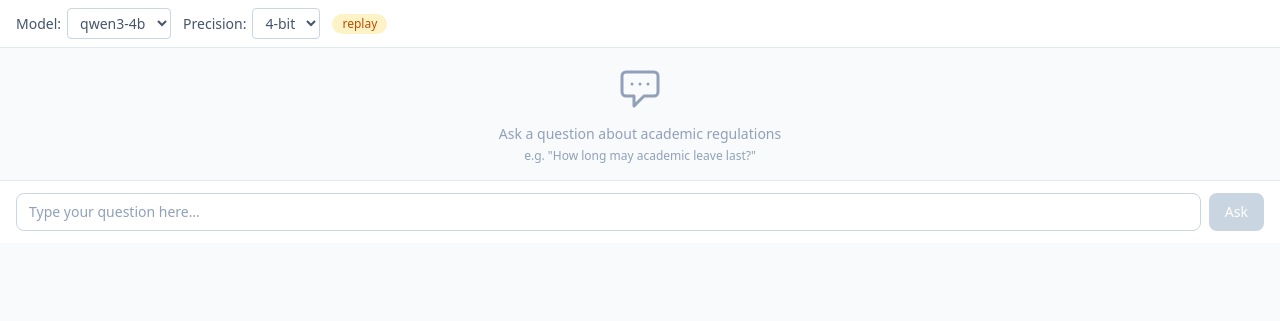
Test case: ChatPage › enables Ask button when text is typed and submits question
Type "How long is academic leave?" into the field with placeholder "Type your question here…".
click(608, 212); type("How long is academic leave?")  # box [16,193,1201,231]
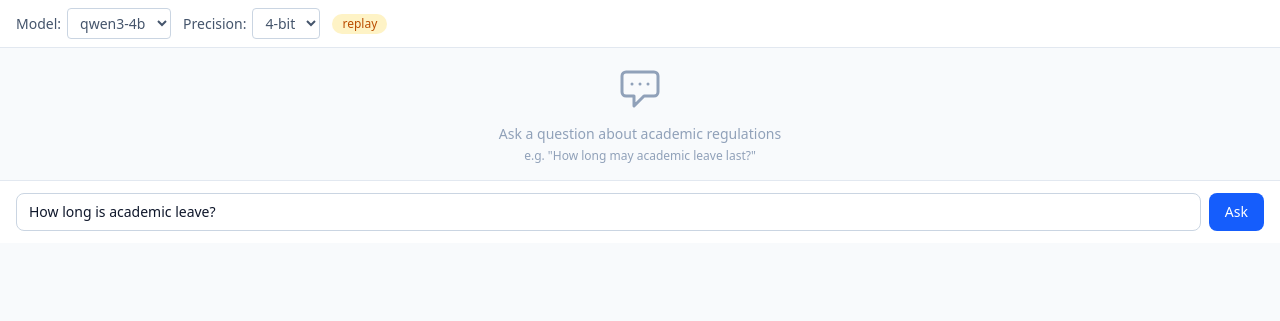
Result: the button "Ask" is enabled
Click the button "Ask".
click(1236, 212)  # box [1209,193,1264,231]
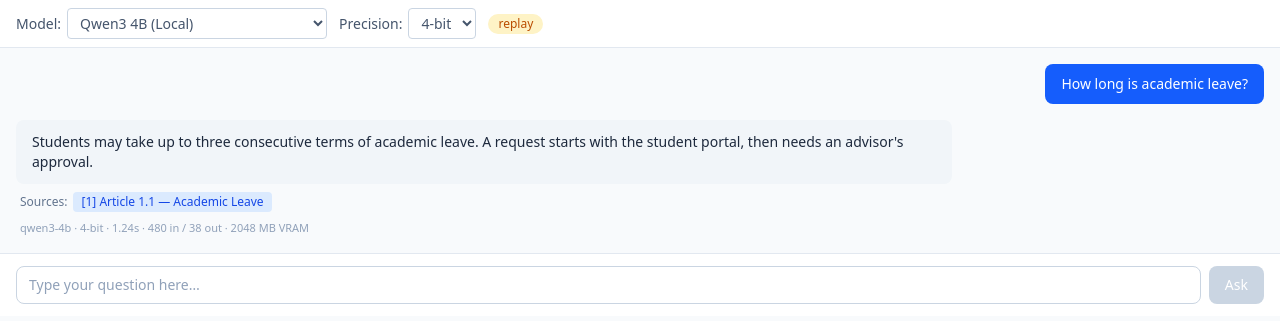
Result: the text "How long is academic leave?" is shown at [1045,64,1264,104]
Result: the field with placeholder "Type your question here…" is empty at [16,266,1201,304]
Result: the text "Students may take up to three consecutive terms" is shown at [32,132,907,171]
